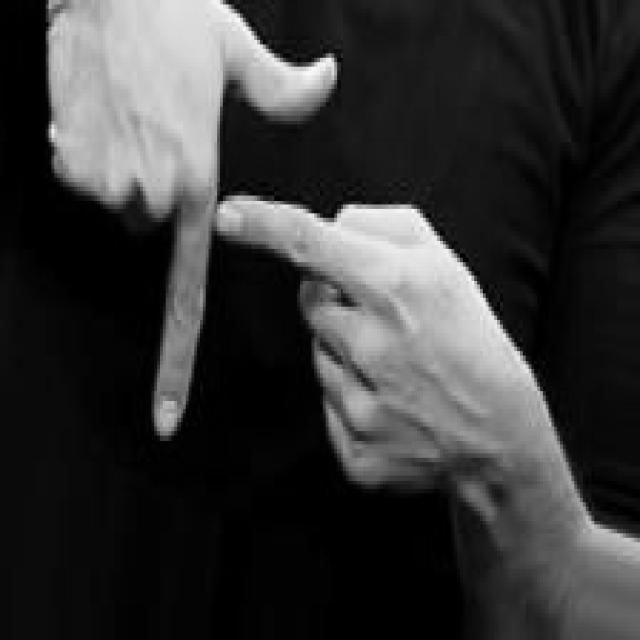F: (49, 1, 458, 495)
